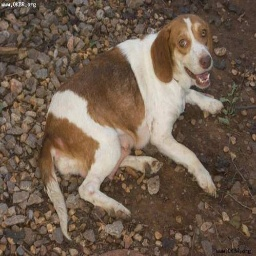dog: (33, 15, 218, 227)
